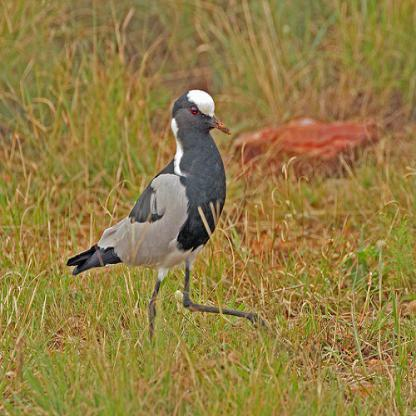bird: (64, 88, 263, 344)
